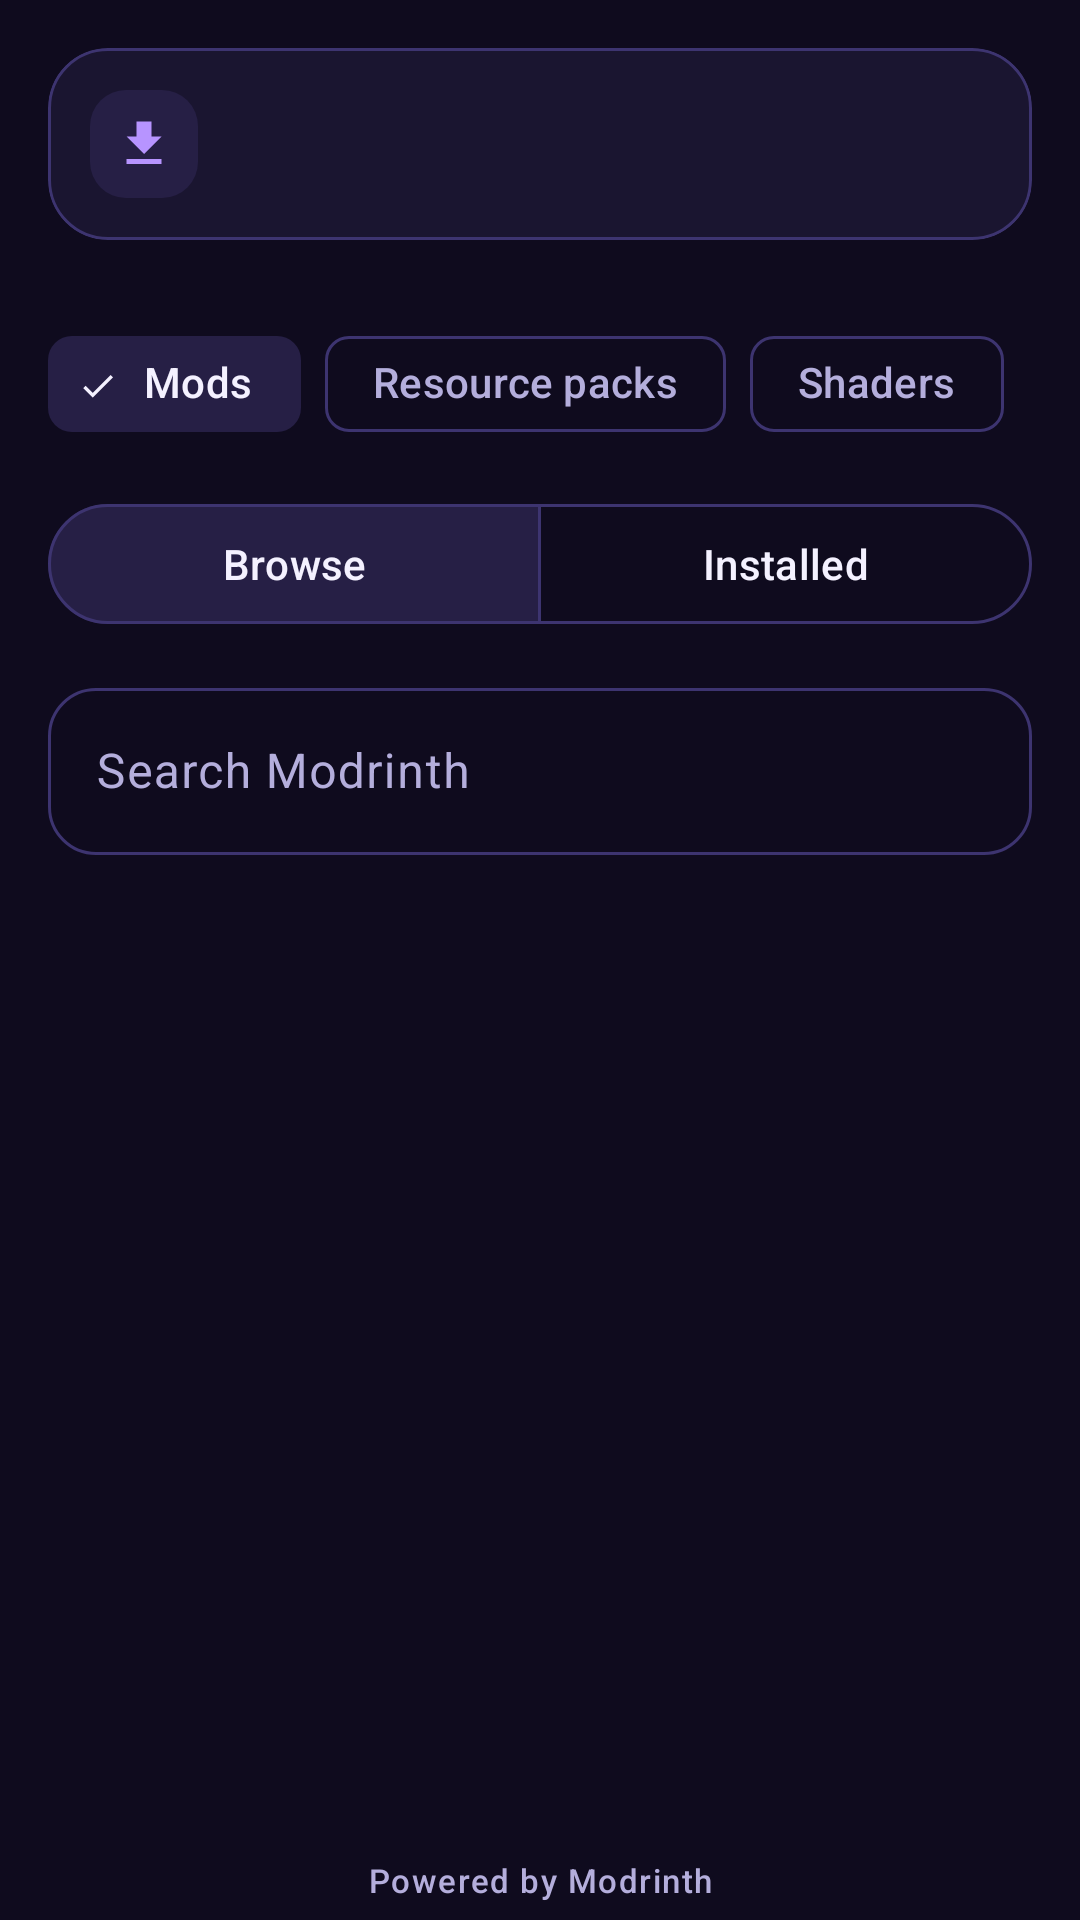

Screen size 1080px x 1920px. Icon name, then its center in pixels as (x=x, y=y):
download: (x=144, y=144)
